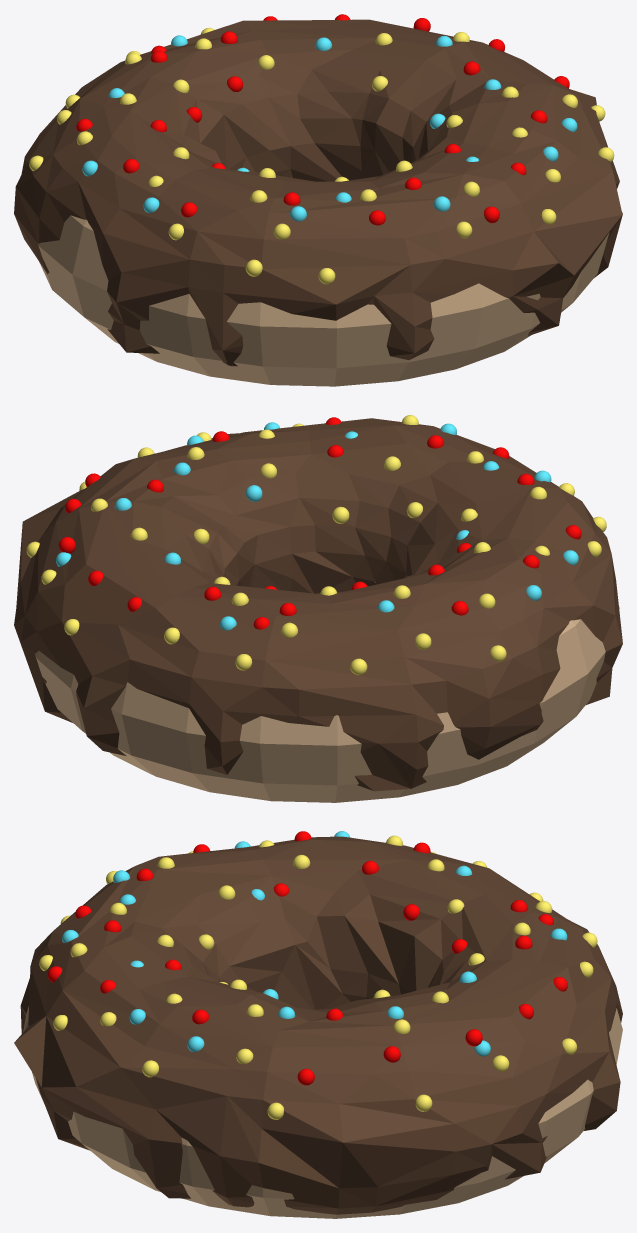
The model's file is donut.gltf.
3 views of the same model, one above another, from view 1: azimuth 30°, elevation 25°; view 2: azimuth 150°, elevation 25°; view 3: azimuth 270°, elevation 25° (orthographic).
Visible parts, largest first — view 1: node-0; view 2: node-0; view 3: node-0.
Boxes of the visible parts, box(x1,y1,x2,y2) form: node-0: box(14, 14, 622, 386); node-0: box(14, 415, 622, 802); node-0: box(14, 831, 622, 1218).
Size of the model in its own units: 1334 by 467 by 1279.
